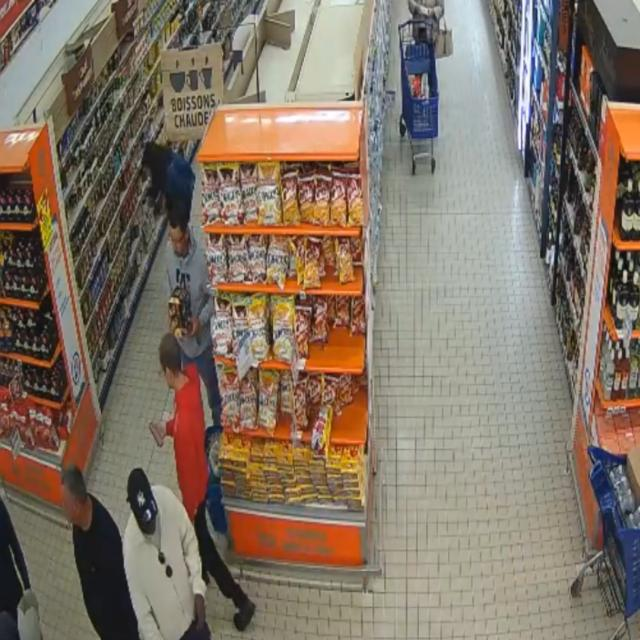article: (167, 285, 193, 339)
bags: (17, 590, 42, 640), (435, 19, 453, 58)
hands: (195, 594, 205, 630), (151, 421, 167, 441), (188, 316, 201, 337), (419, 7, 432, 17), (146, 196, 155, 209)
person: (152, 334, 254, 631), (124, 468, 210, 639), (62, 466, 139, 639), (167, 208, 221, 425), (143, 142, 195, 215), (0, 499, 30, 620), (408, 0, 444, 97)
